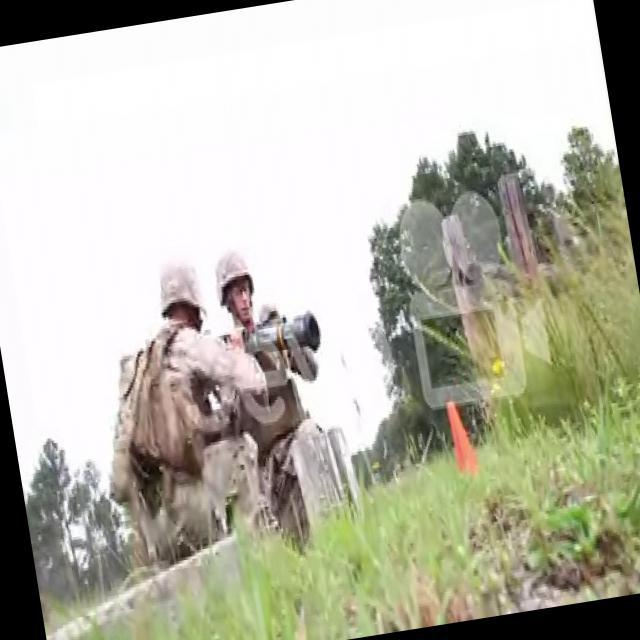rocket: (238, 310, 320, 364)
